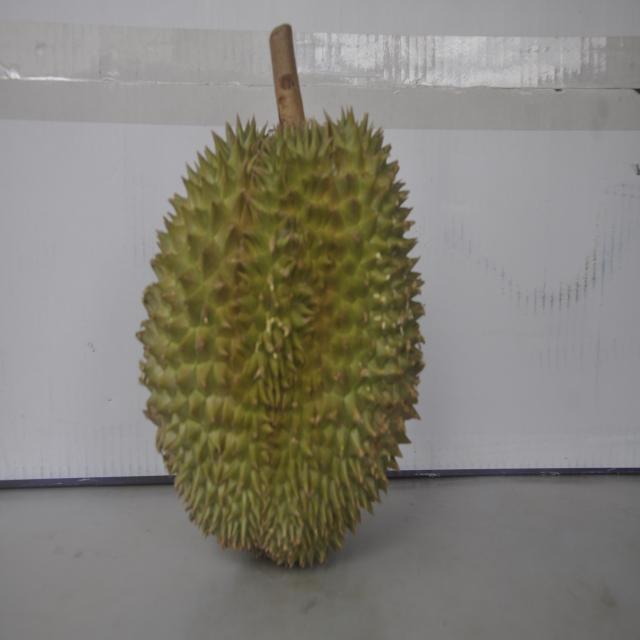mature: (138, 102, 424, 568)
